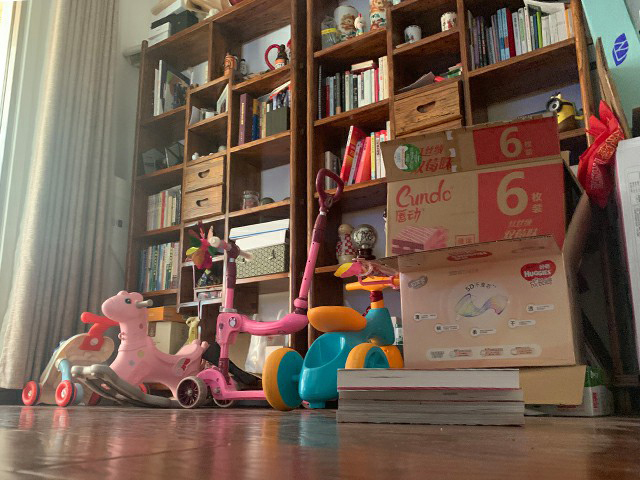book: (336, 366, 526, 428)
curtain: (1, 1, 116, 392)
